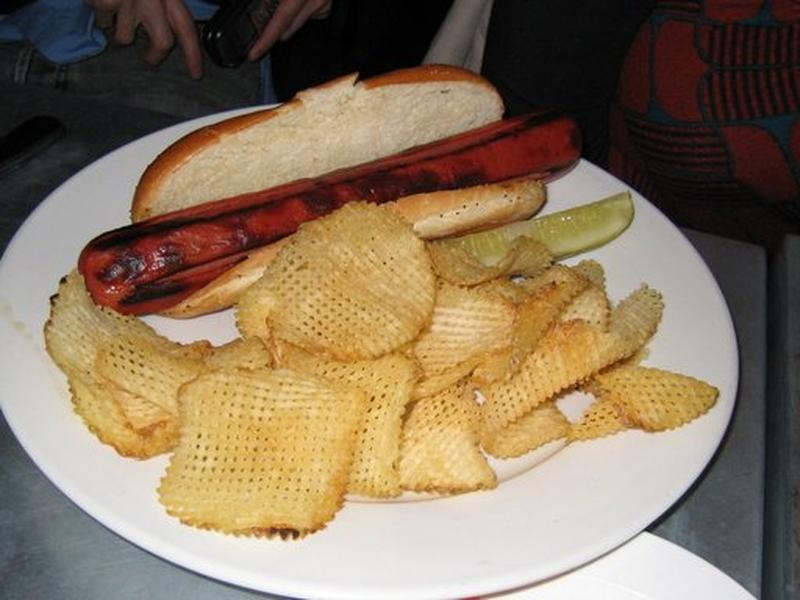hot_dog: (78, 75, 665, 295)
